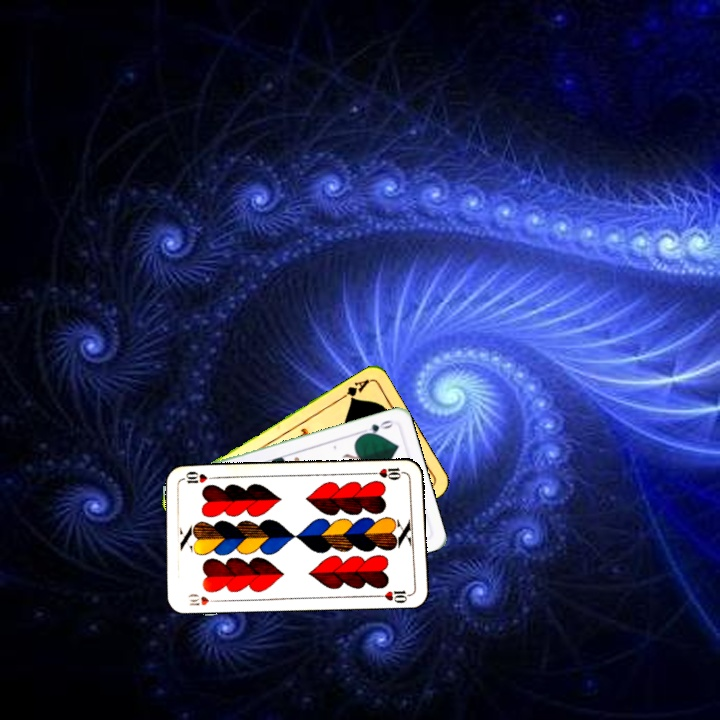GA: (335, 375, 372, 403)
GO: (356, 416, 396, 438)
H10: (184, 589, 223, 608), (368, 464, 408, 482)
